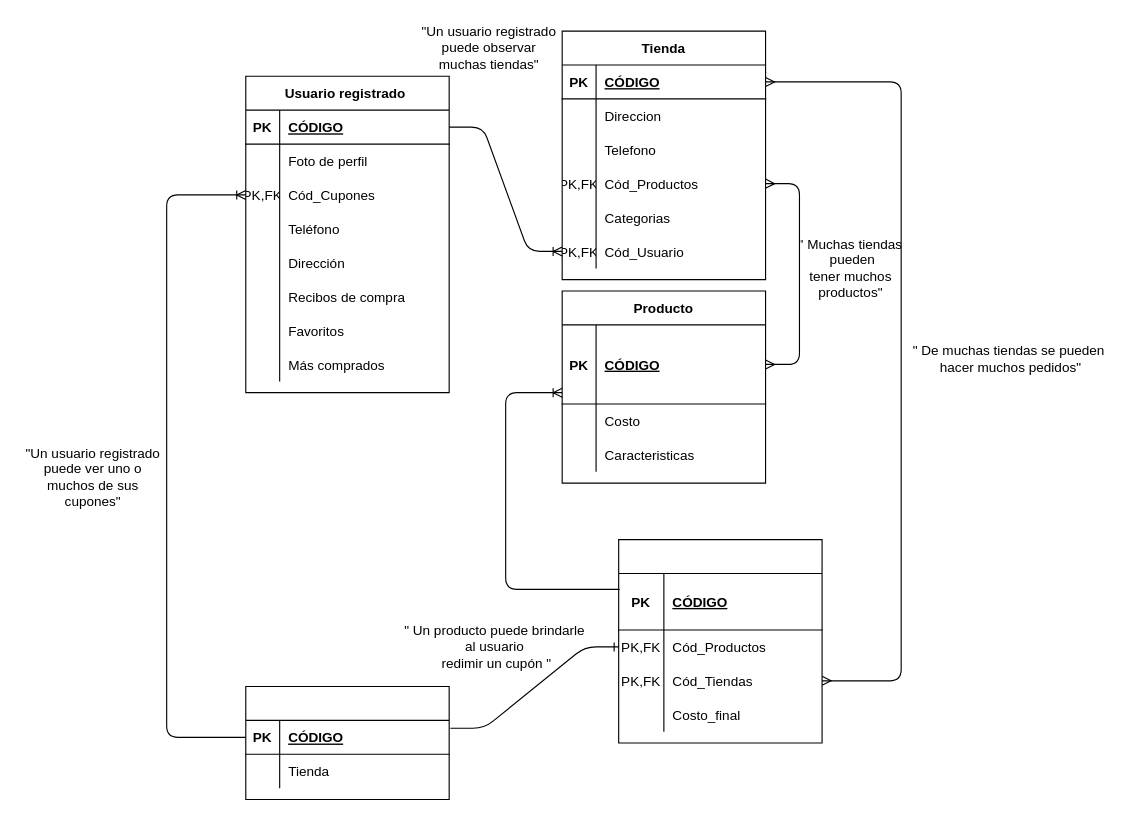
This 1135x819 diagram has some shape labels left out. The shapes that lost their labels are listed below. From the top down, each one's box as (x1, y1, x2, y2) in pixels, then its label:
(618, 538, 822, 743): Venta
(245, 685, 449, 799): Cupones
